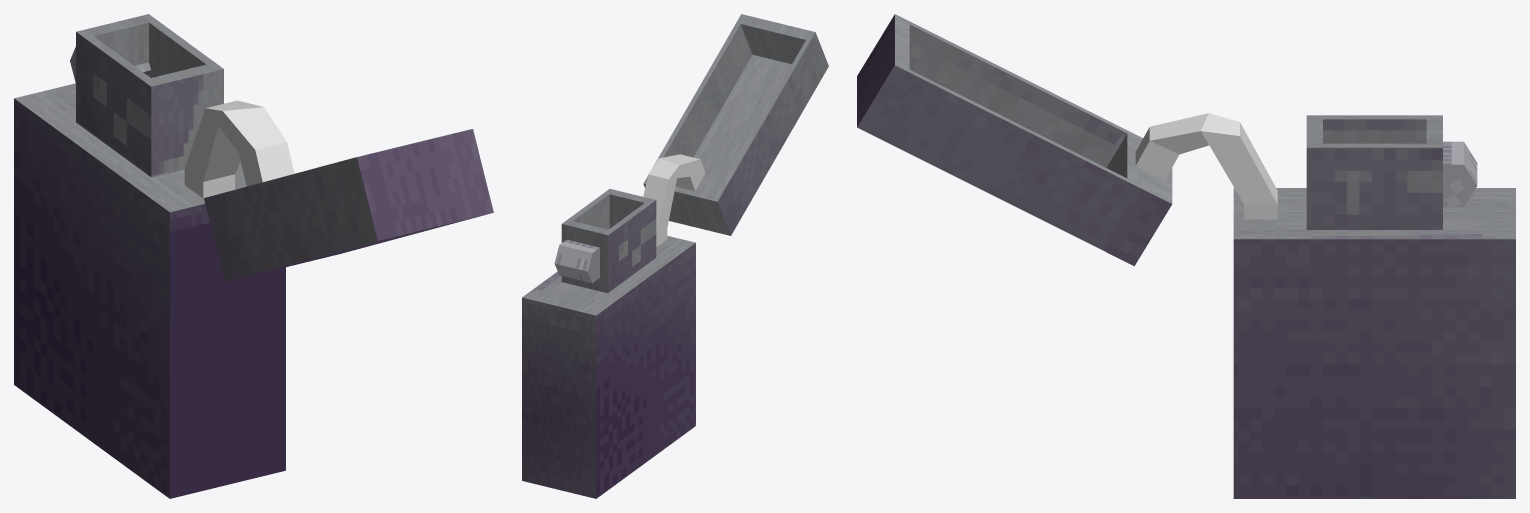
Rendered from Accendino.fbx.
The picture shows the model from 3 angles, left to right: view 1: azimuth 30°, elevation 25°; view 2: azimuth 150°, elevation 25°; view 3: azimuth 270°, elevation 25°; orthographic projection. The views are drawn at different scales.
Parts seen in each view (by area): view 1: Cube.015; view 2: Cube.015; view 3: Cube.015.
Boxes of the visible parts, x1,y1,x2,y2 form: Cube.015: [14, 14, 493, 498]; Cube.015: [522, 14, 828, 498]; Cube.015: [857, 14, 1515, 498].
Bounding box in the file's own units: 0.022 × 0.0866 × 0.1192.
Materials: 3 (2 with a texture image).
